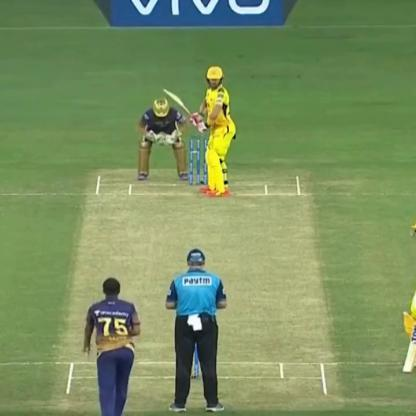bat: (159, 82, 200, 134)
pitch: (57, 164, 342, 412)
